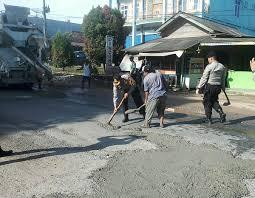Pothole: (61, 79, 91, 113)
